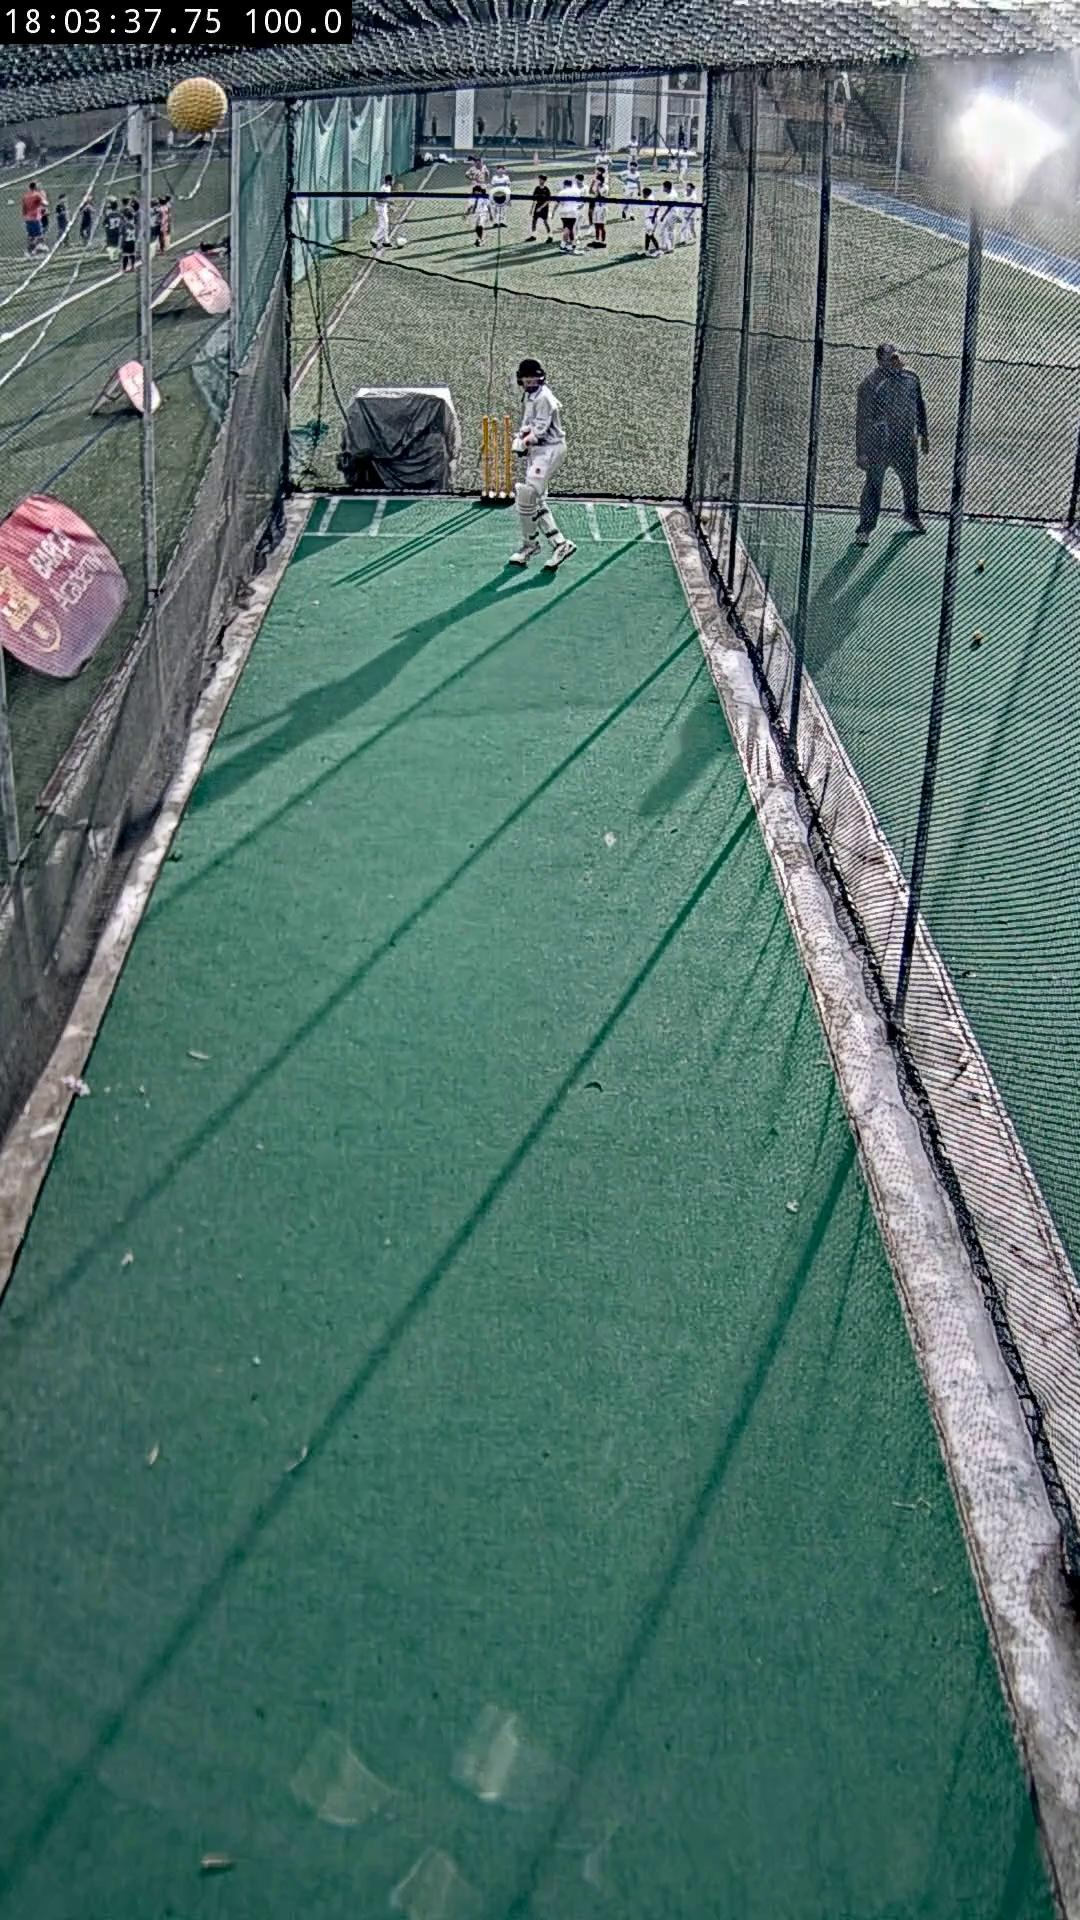ball: (165, 79, 228, 132)
